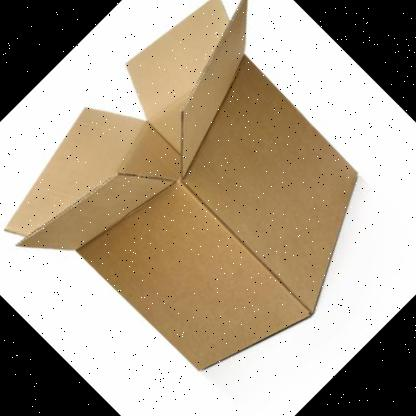box: (3, 1, 359, 371)
opened: (4, 1, 248, 251)
